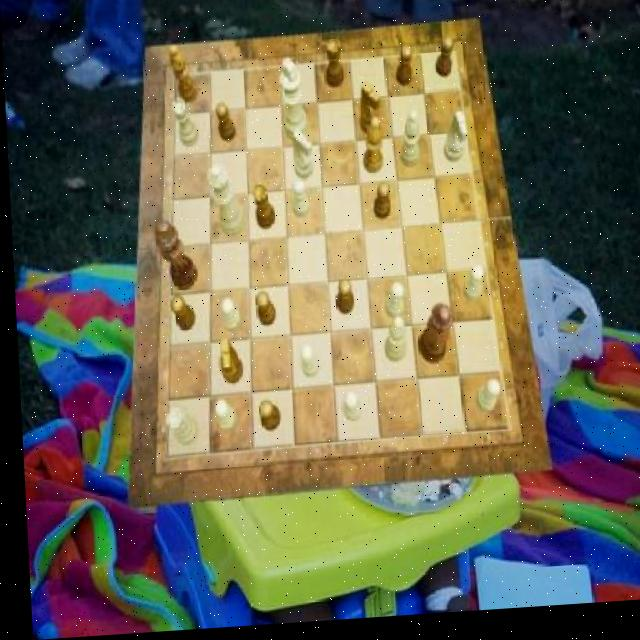bishop: (168, 47, 197, 108), (358, 122, 381, 179)
black-bishop: (151, 221, 195, 294)
black-king: (356, 87, 380, 140), (214, 341, 239, 387)
black-knight: (166, 297, 191, 334), (433, 41, 453, 84), (393, 49, 412, 92), (215, 105, 234, 146), (254, 403, 277, 436), (331, 282, 350, 319), (369, 188, 388, 225), (253, 294, 272, 330)
black-pawn: (413, 310, 451, 372)
black-queen: (250, 186, 273, 233), (322, 42, 343, 92)
black-rook: (397, 117, 419, 174), (379, 321, 404, 368)
white-bishop: (278, 60, 308, 145)
white-king: (440, 117, 468, 170), (290, 133, 311, 185)
white-knight: (457, 271, 481, 309), (469, 386, 495, 421), (379, 288, 400, 325), (289, 183, 308, 222), (210, 403, 232, 436), (296, 346, 316, 382), (217, 299, 237, 335), (338, 394, 358, 426)
white-pawn: (204, 165, 242, 241)
white-queen: (160, 408, 194, 448), (171, 100, 197, 150)
